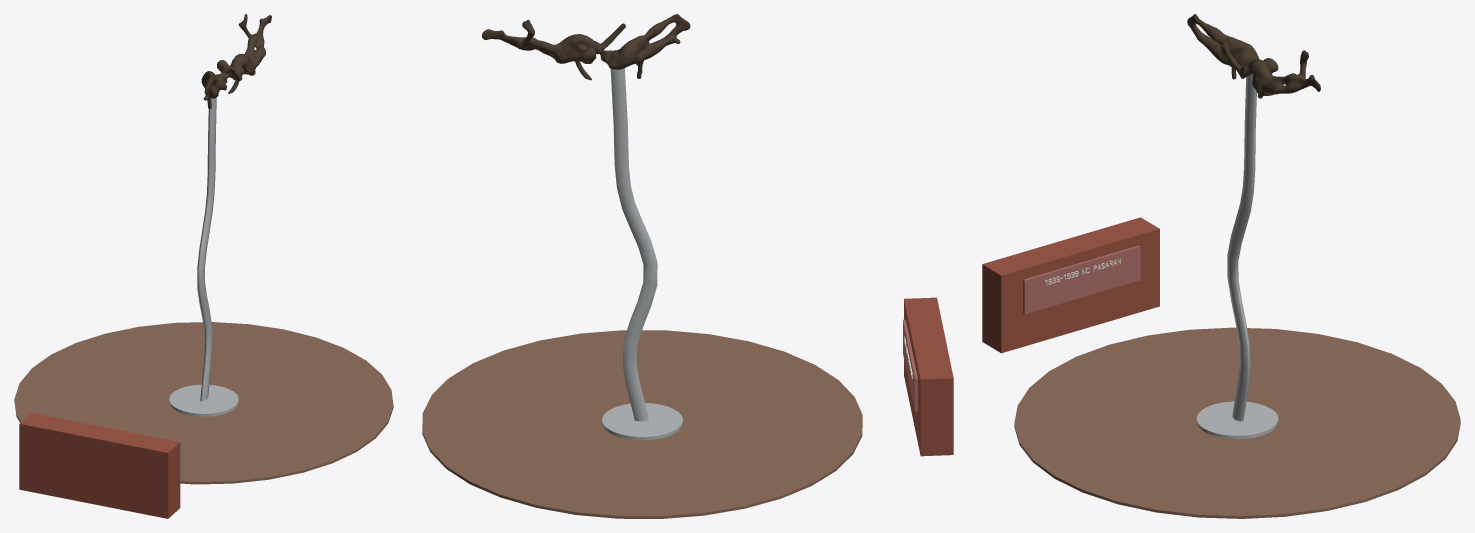
File: spanjemonument.glb
3 renders of one model, left to right at view 1: azimuth 30°, elevation 25°; view 2: azimuth 150°, elevation 25°; view 3: azimuth 270°, elevation 25°, orthographic. The views are drawn at different scales.
Parts seen in each view (by area): view 1: spanjemonument; view 2: spanjemonument; view 3: spanjemonument.
Boxes of the visible parts, bbox=[...] form: spanjemonument: bbox=[14, 14, 393, 518]; spanjemonument: bbox=[422, 14, 953, 518]; spanjemonument: bbox=[982, 14, 1460, 518].
Size of the model in its own units: 7.12 by 6.14 by 6.43.
